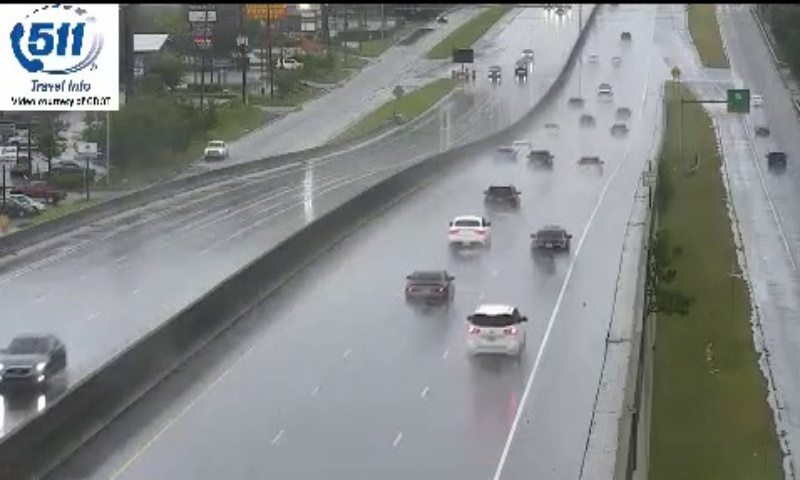car: (466, 304, 525, 354), (405, 270, 453, 304), (448, 215, 487, 247), (532, 226, 570, 257), (483, 182, 518, 211)
